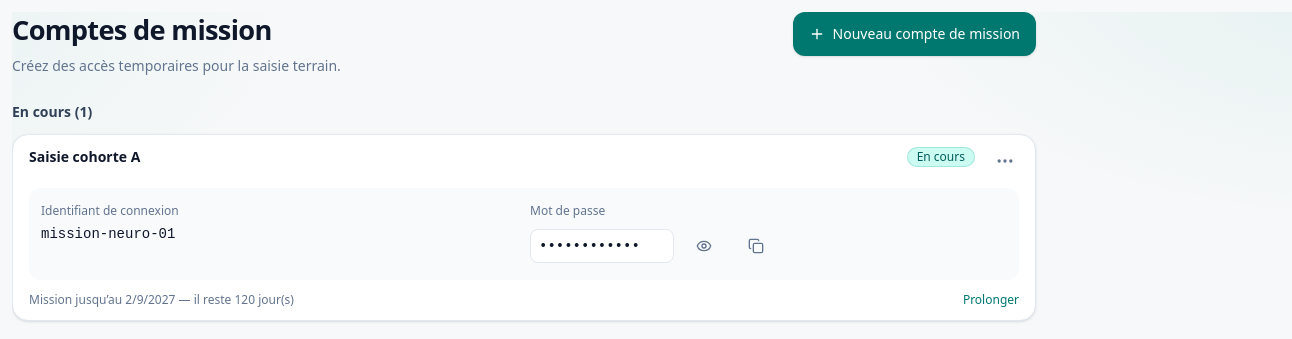
it: creation et conservation chiffree › le mot de passe reste masque jusqu a une revelation explicite
Expected: the text "••••••••••••" is shown, [530,229,674,263]
Expected: the text "V7!solide-mission#2026" is not shown
Click the button named "Afficher le mot de passe".
click(704, 246)  # box [682,224,726,268]
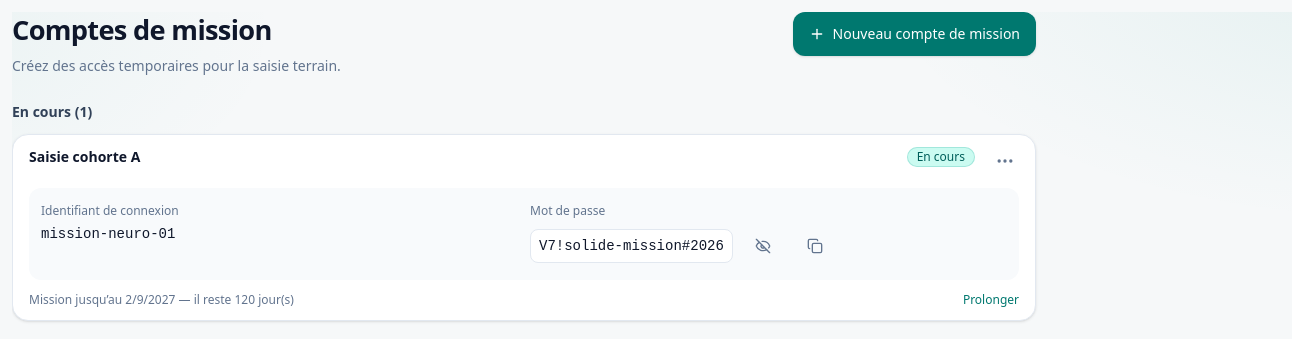
Result: the text "V7!solide-mission#2026" is shown at [530,229,733,263]
Click the button named "Masquer le mot de passe".
click(763, 246)  # box [741,224,785,268]
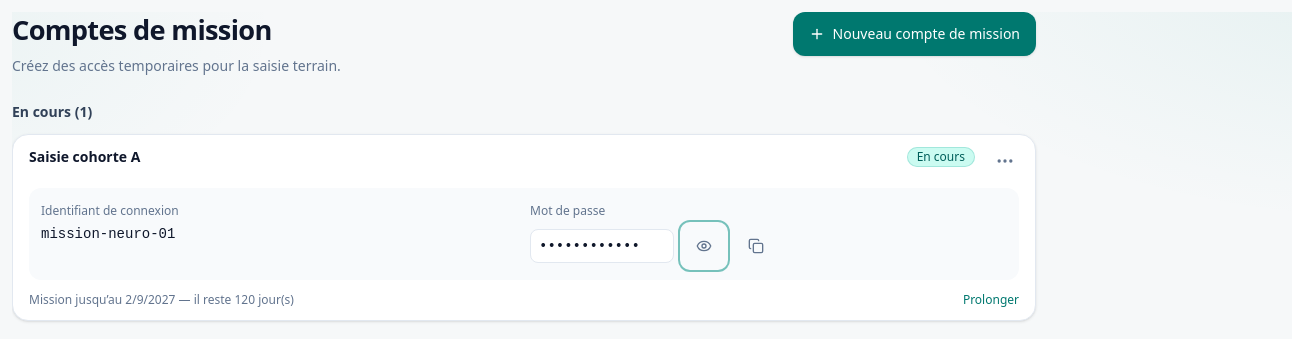
Result: the text "V7!solide-mission#2026" is gone
